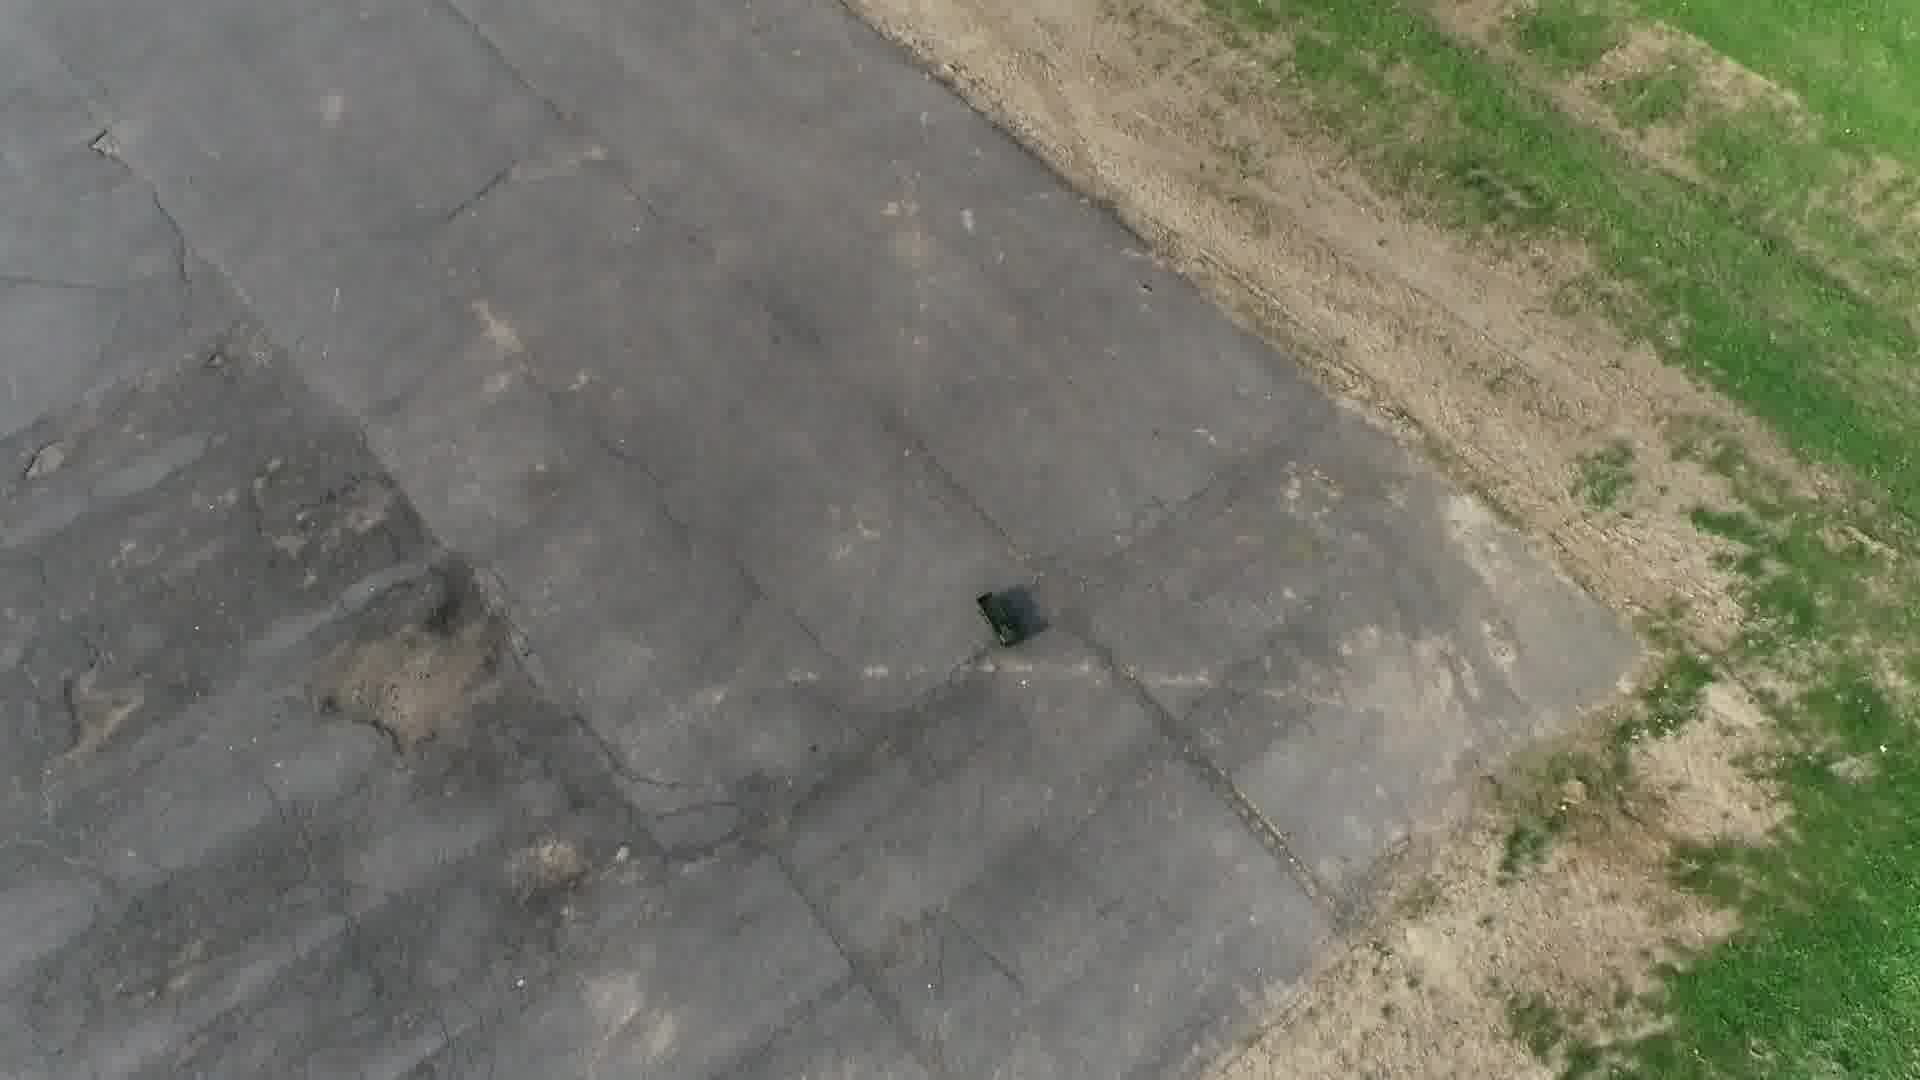transporter9: (973, 589, 1025, 649)
